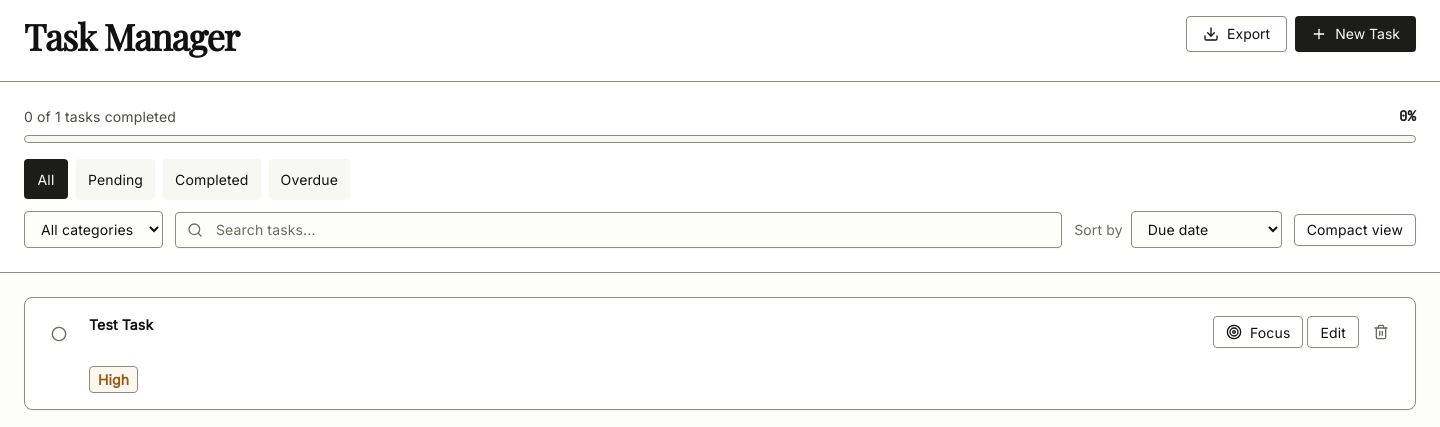
Test: TaskManager Search › shows clear button when typing and clears input on click
Type something
In the search field with placeholder "Search tasks...": (619, 230) top-left (175, 212), bottom-right (1062, 248), type "Test"
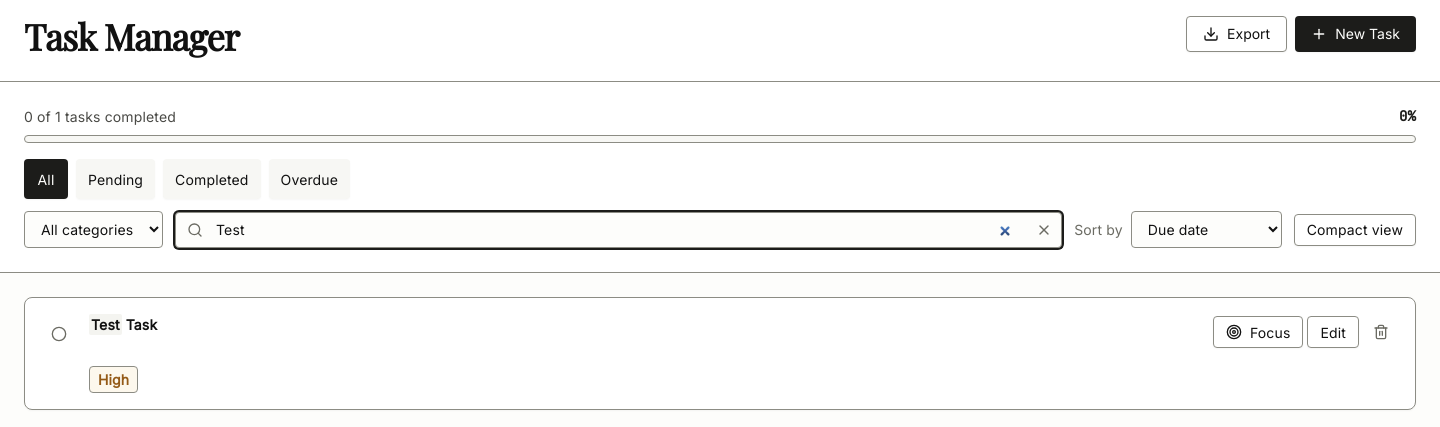
Expected: the button named "Clear search" is shown
Click clear button
Click the button named "Clear search": (1044, 230) top-left (1026, 212), bottom-right (1062, 248)
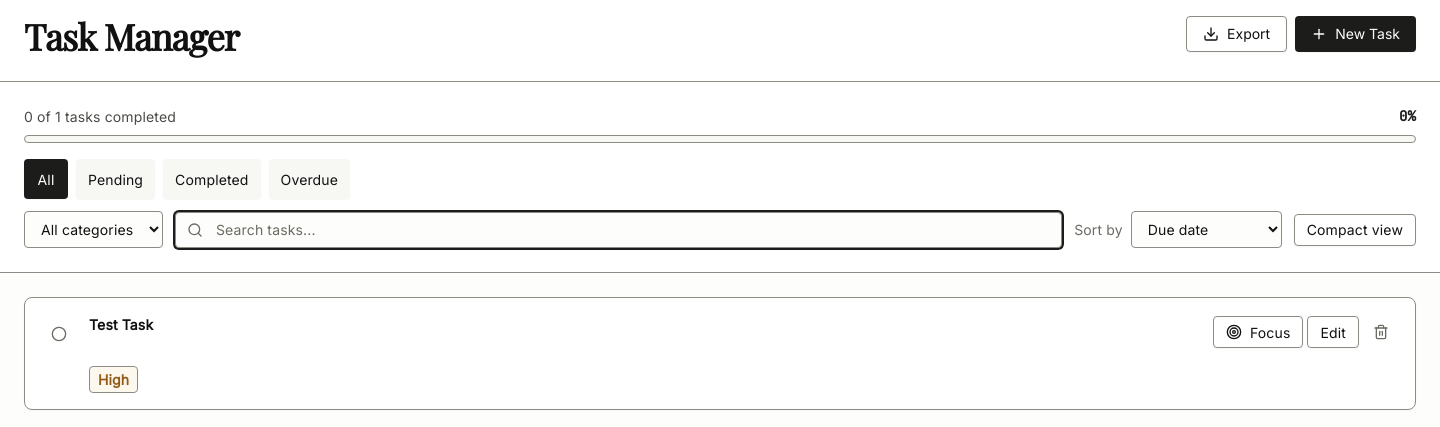
Expected: the search field with placeholder "Search tasks..." is empty, top-left (175, 212), bottom-right (1062, 248)
